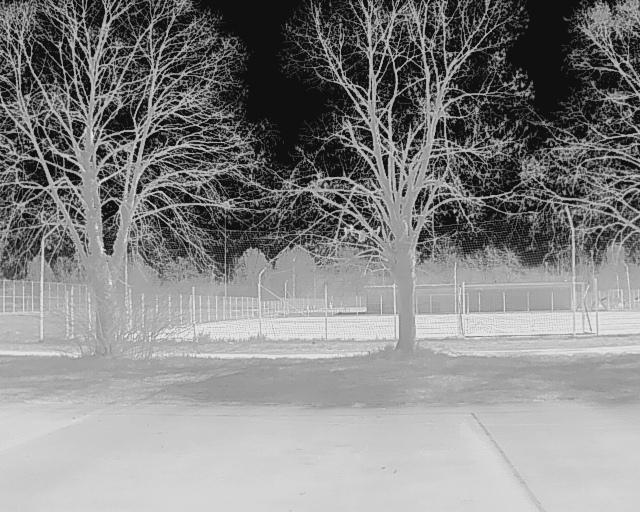drone: (339, 221, 384, 245)
